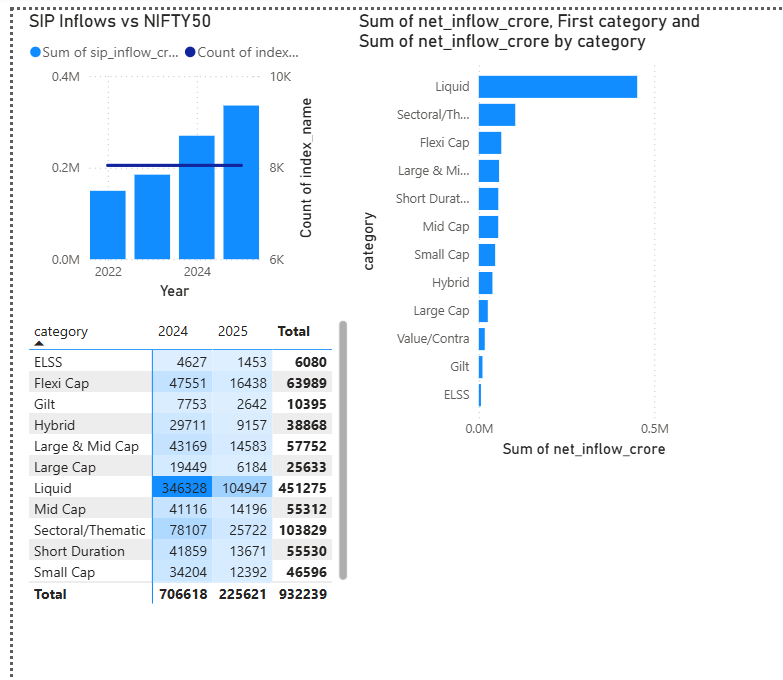

The page's visual inventory and layout, read from the dashboard file:
{"tool":"powerbi","page":{"name":"SIP & Market Trends","canvas":[1280,720],"ordinal":3},"visuals":[{"type":"lineClusteredColumnComboChart","title":"SIP Inflows vs NIFTY50","fields":{"Category":["04_monthly_sip_inflows_cleaned.month.Variation.Date Hierarchy.Year","04_monthly_sip_inflows_cleaned.month.Variation.Date Hierarchy.Quarter","04_monthly_sip_inflows_cleaned.month.Variation.Date Hierarchy.Month","04_monthly_sip_inflows_cleaned.month.Variation.Date Hierarchy.Day"],"Y":["Sum(04_monthly_sip_inflows_cleaned.sip_inflow_crore)"],"Y2":["CountNonNull(10_benchmark_indices_cleaned.index_name)"]},"box":[10,0,280,280],"z":0},{"type":"pivotTable","fields":{"Rows":["05_category_inflows_cleaned.category"],"Columns":["05_category_inflows_cleaned.month.Variation.Date Hierarchy.Year","05_category_inflows_cleaned.month.Variation.Date Hierarchy.Quarter","05_category_inflows_cleaned.month.Variation.Date Hierarchy.Month","05_category_inflows_cleaned.month.Variation.Date Hierarchy.Day"],"Values":["Sum(05_category_inflows_cleaned.net_inflow_crore)"]},"box":[10,290,313.8,280],"z":1},{"type":"clusteredBarChart","fields":{"Category":["05_category_inflows_cleaned.category"],"Y":["Sum(05_category_inflows_cleaned.net_inflow_crore)"]},"box":[324.3,0,338.6,430],"z":2}]}

Visuals, with their boxes on the page's 1280x720 design canvas (x1, y1, x2, y2). These are canvas units, not pixel positions in the 783x680 screenshot, which may show the page scaled, cropped or inside an application window:
"SIP Inflows vs NIFTY50" lineClusteredColumnComboChart: Rect(10, 0, 290, 280)
pivotTable - 05_category_inflows_cleaned.category x 05_category_inflows_cleaned.month.Variation.Date Hierarchy.Year: Rect(10, 290, 324, 570)
clusteredBarChart - 05_category_inflows_cleaned.category x Sum(05_category_inflows_cleaned.net_inflow_crore): Rect(324, 0, 663, 430)
